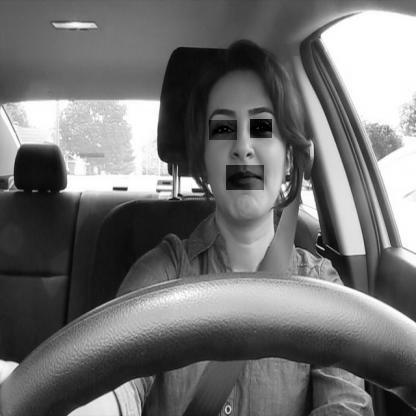seatbelt: (181, 35, 313, 416)
